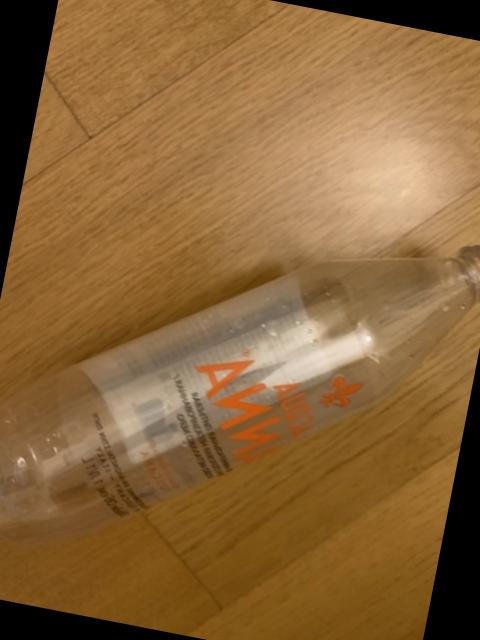plastic: (0, 245, 480, 537)
